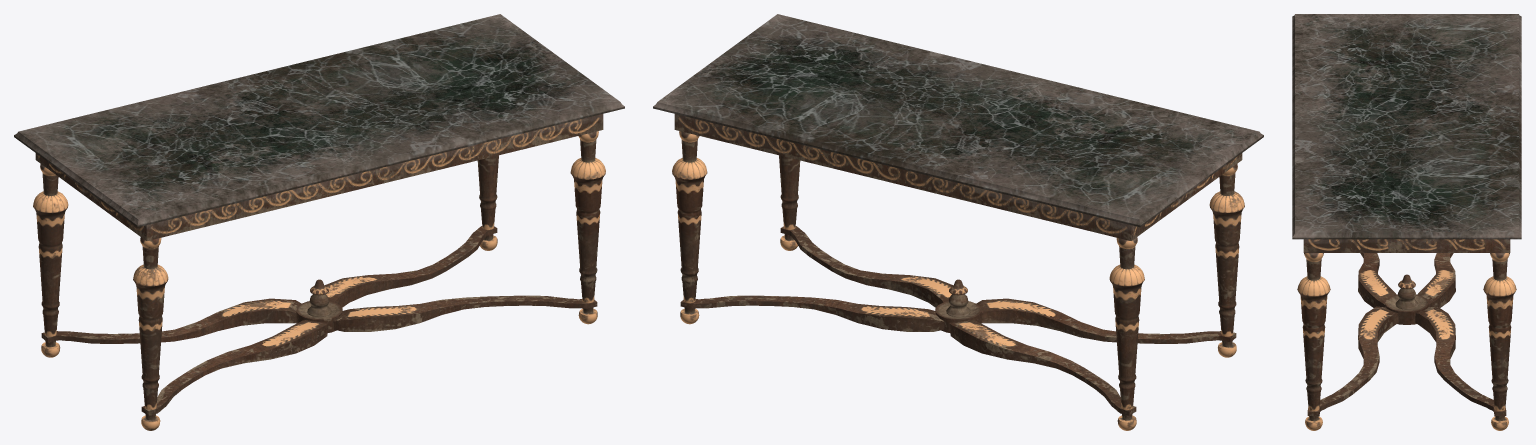
The model's file is table3.gltf.
3 renders of one model, left to right at view 1: azimuth 30°, elevation 25°; view 2: azimuth 150°, elevation 25°; view 3: azimuth 270°, elevation 25°, orthographic. The views are drawn at different scales.
Visible parts, largest first — view 1: RetroTable1; view 2: RetroTable1; view 3: RetroTable1.
Part boxes in pixels (left/top/right/bottom): RetroTable1: left=14, top=14, right=624, bottom=430; RetroTable1: left=653, top=14, right=1263, bottom=430; RetroTable1: left=1292, top=14, right=1521, bottom=430.
Size of the model in its own units: 1.83 by 0.7976 by 0.8015.
Materials: 1 (1 with a texture image).
